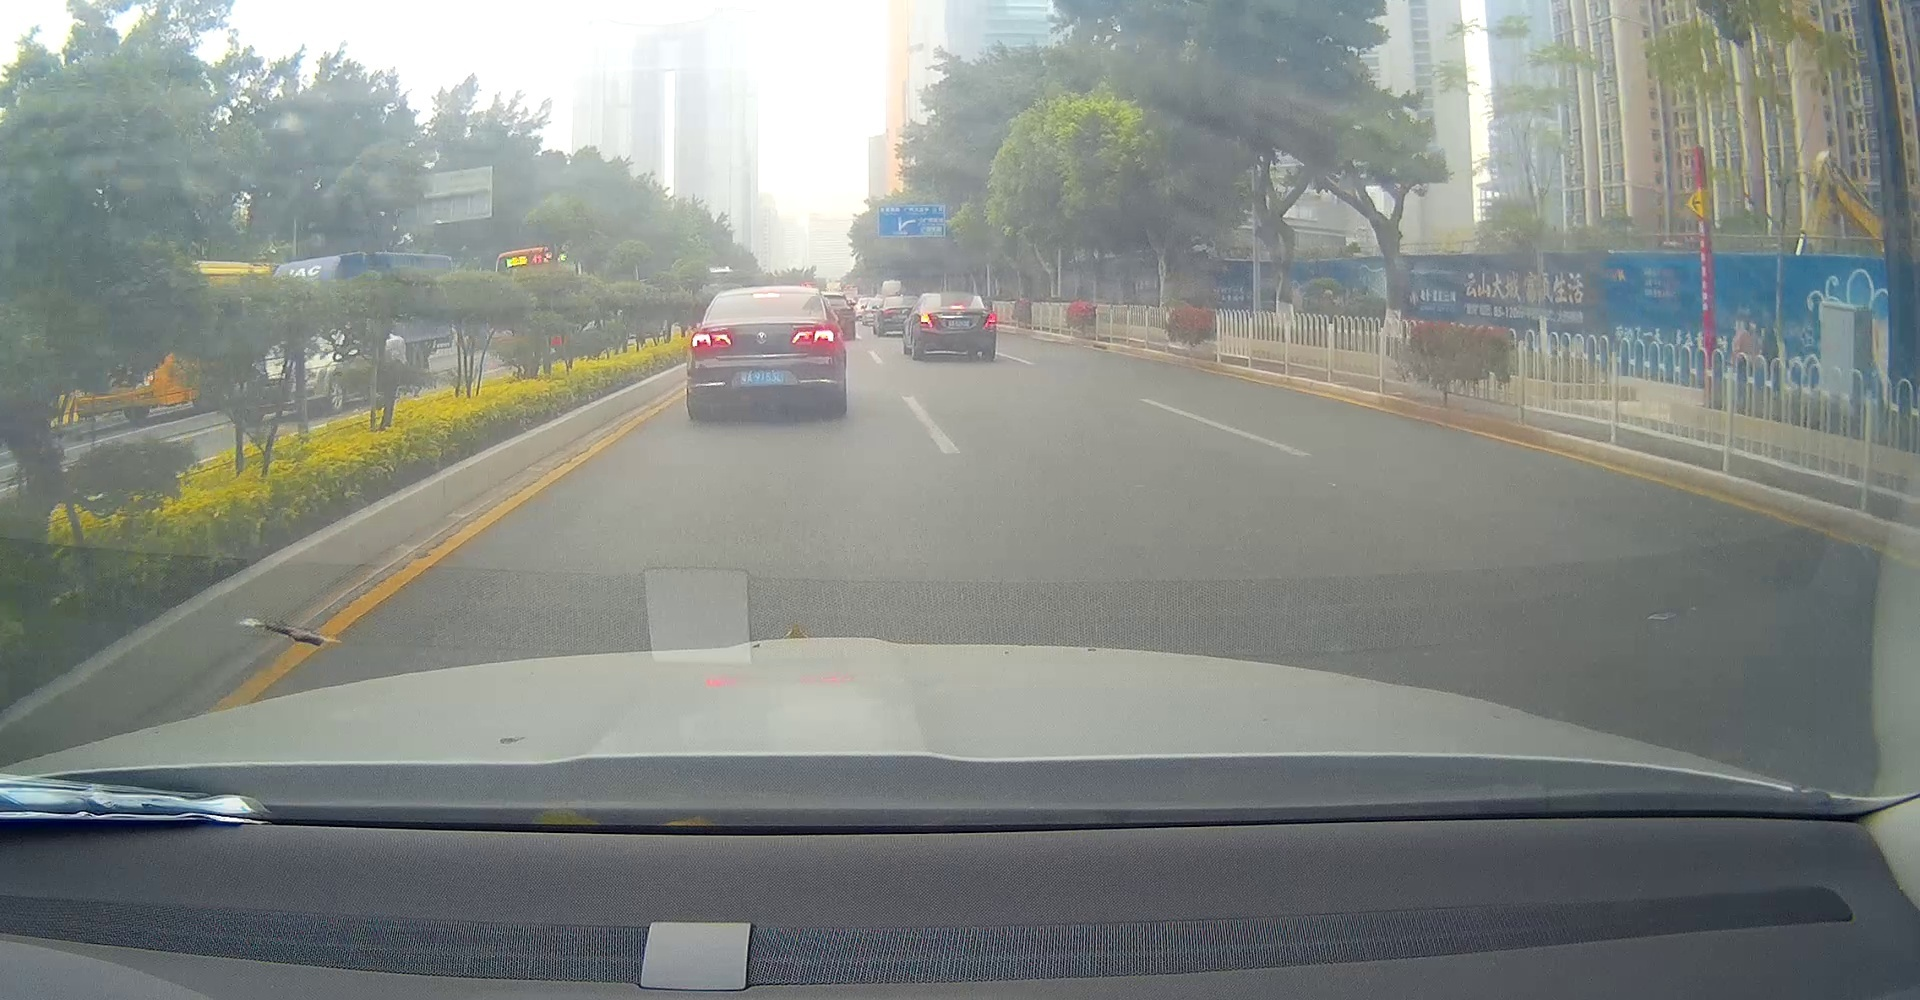L_light: (691, 331, 731, 346), (919, 313, 935, 327)
R_light: (790, 329, 834, 346), (983, 312, 996, 329)
T_light: (753, 292, 780, 299), (950, 305, 964, 308)
day-brake: (686, 286, 846, 419), (914, 292, 996, 362)
